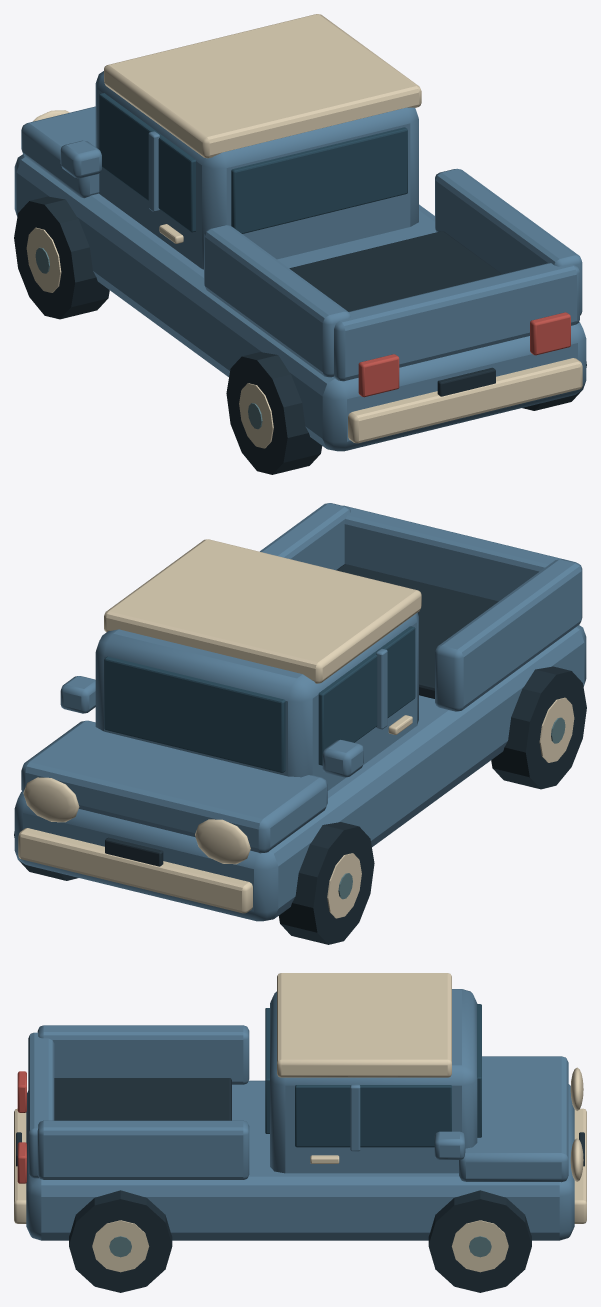
Rendered from pickup.glb.
3 renders of one model, top to bottom at view 1: azimuth 30°, elevation 25°; view 2: azimuth 150°, elevation 25°; view 3: azimuth 270°, elevation 25°, orthographic. The views are drawn at different scales.
Visible parts, largest first — view 1: pickup.001; view 2: pickup.001; view 3: pickup.001.
Boxes of the visible parts, x1,y1,x2,y2 form: pickup.001: (14,14,586,474); pickup.001: (14,503,586,944); pickup.001: (14,973,586,1292).
Bounding box in the file's own units: 1.95 × 1.56 × 3.76.
